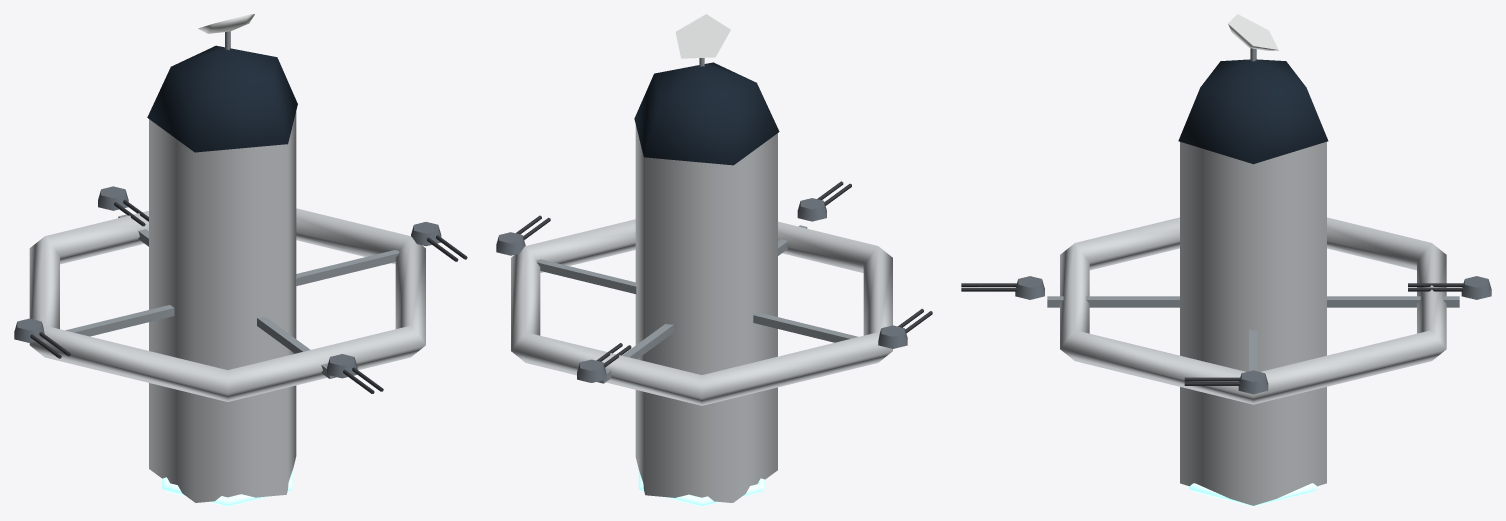
The model's file is space_orbital_command_center_t3_lod2.glb.
3 views of the same model, side by side, from view 1: azimuth 30°, elevation 25°; view 2: azimuth 150°, elevation 25°; view 3: azimuth 270°, elevation 25° (orthographic). The views are drawn at different scales.
Parts seen in each view (by area): view 1: body, ring, turret_2, turret_1, turret_0, turret_3, antenna_0; view 2: body, ring, antenna_0, turret_1, turret_2, turret_3, turret_0; view 3: body, ring, antenna_0, turret_0, turret_1, turret_3.
Boxes of the visible parts, box(x1,y1,x2,y2) form: body: box(147, 45, 297, 506); ring: box(29, 208, 425, 401); turret_2: box(14, 318, 70, 358); turret_1: box(327, 354, 383, 393); turret_0: box(411, 222, 467, 261); turret_3: box(98, 186, 148, 226); antenna_0: box(198, 14, 254, 49); body: box(634, 62, 779, 506); ring: box(511, 219, 892, 405); antenna_0: box(675, 14, 730, 66); turret_1: box(797, 181, 851, 221); turret_2: box(878, 309, 932, 348); turret_3: box(577, 343, 631, 382); turret_0: box(496, 215, 550, 255); body: box(1178, 59, 1328, 506); ring: box(1047, 217, 1459, 404); antenna_0: box(1228, 14, 1278, 61); turret_0: box(1184, 370, 1268, 394); turret_1: box(961, 276, 1044, 299); turret_3: box(1408, 276, 1491, 299).
Size of the model in its own units: 28 by 29.46 by 30.87.
